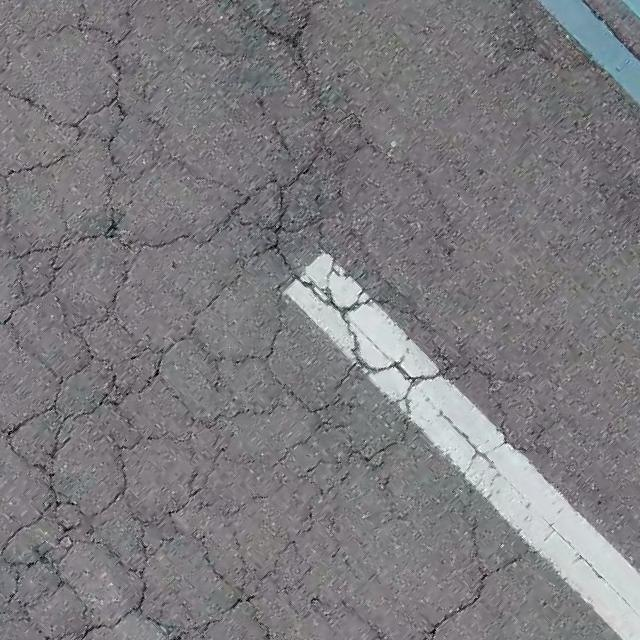PIEL DE COCODRILO: (0, 0, 561, 639)
